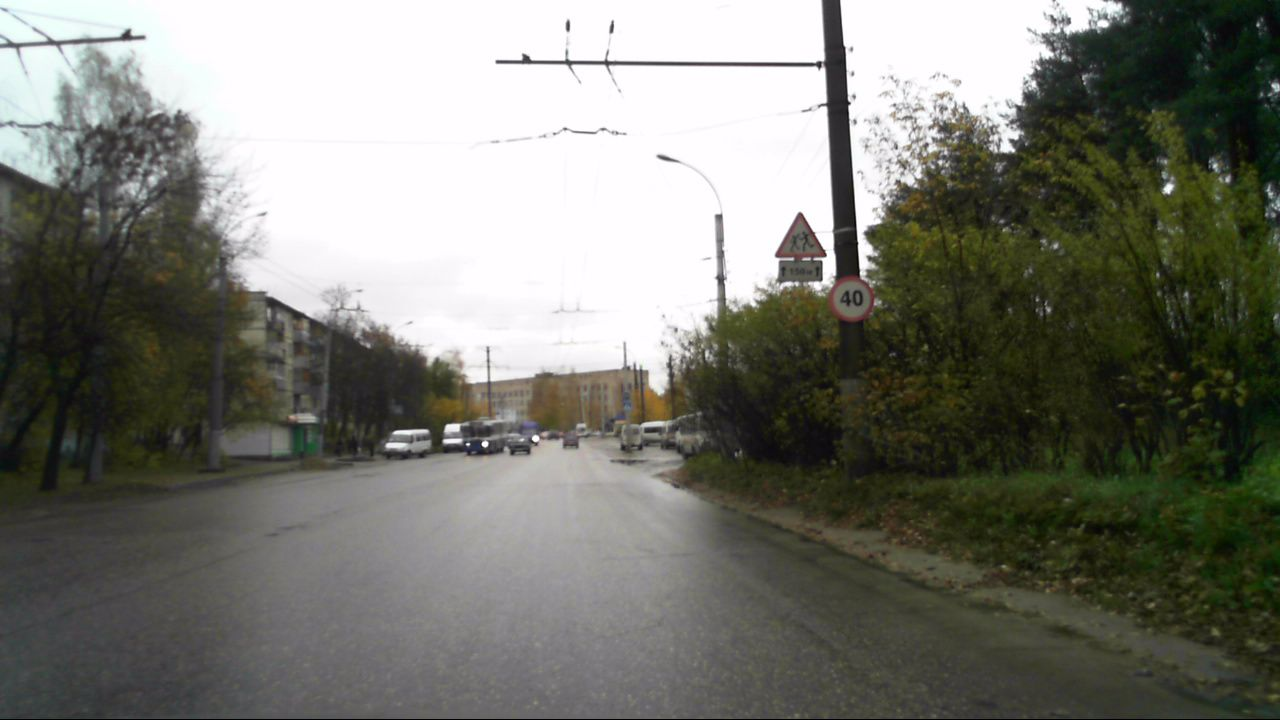speed_warning_40: (828, 277, 875, 323)
